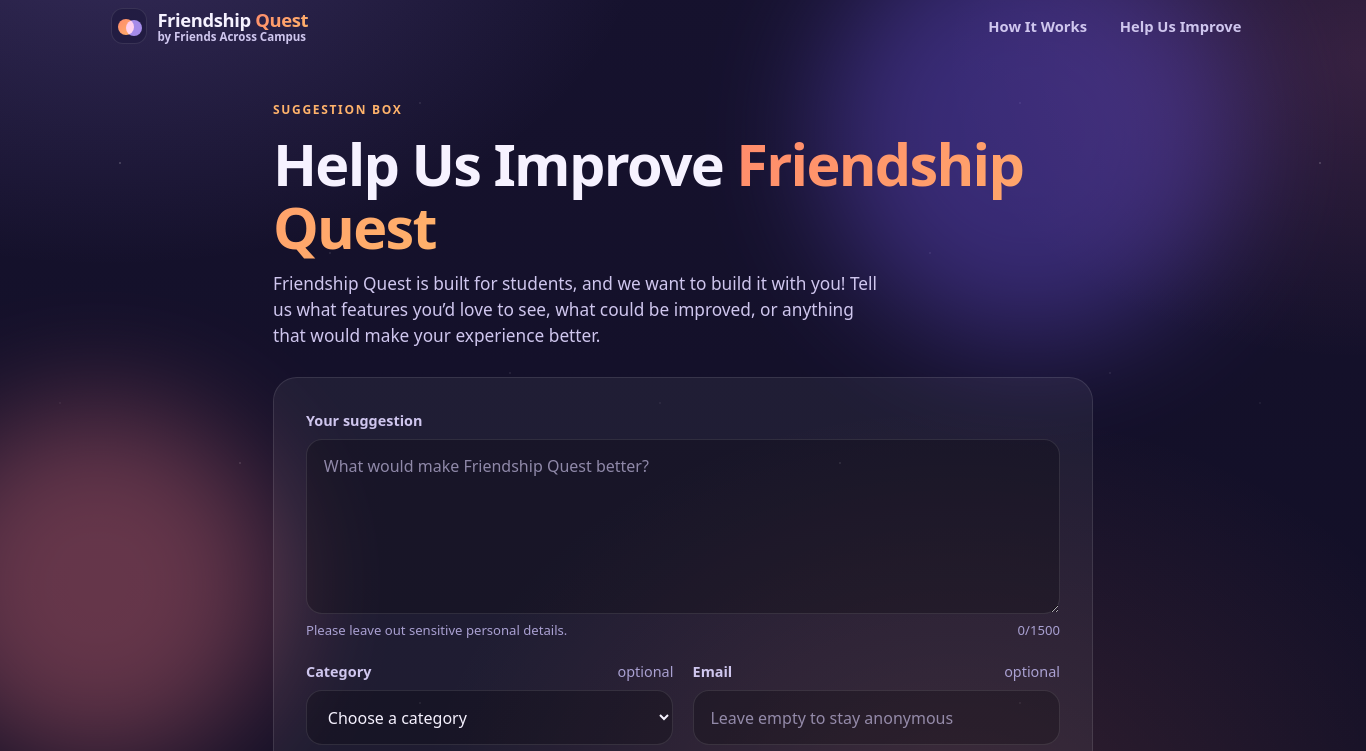
it: feedback › validates before sending
The width and height of the screenshot is (1366, 751).
Later steps or results of the test are not shown.
In the text box labelled "Your suggestion": (683, 526) [306, 439, 1060, 614], type "hi"
(page scrolled)
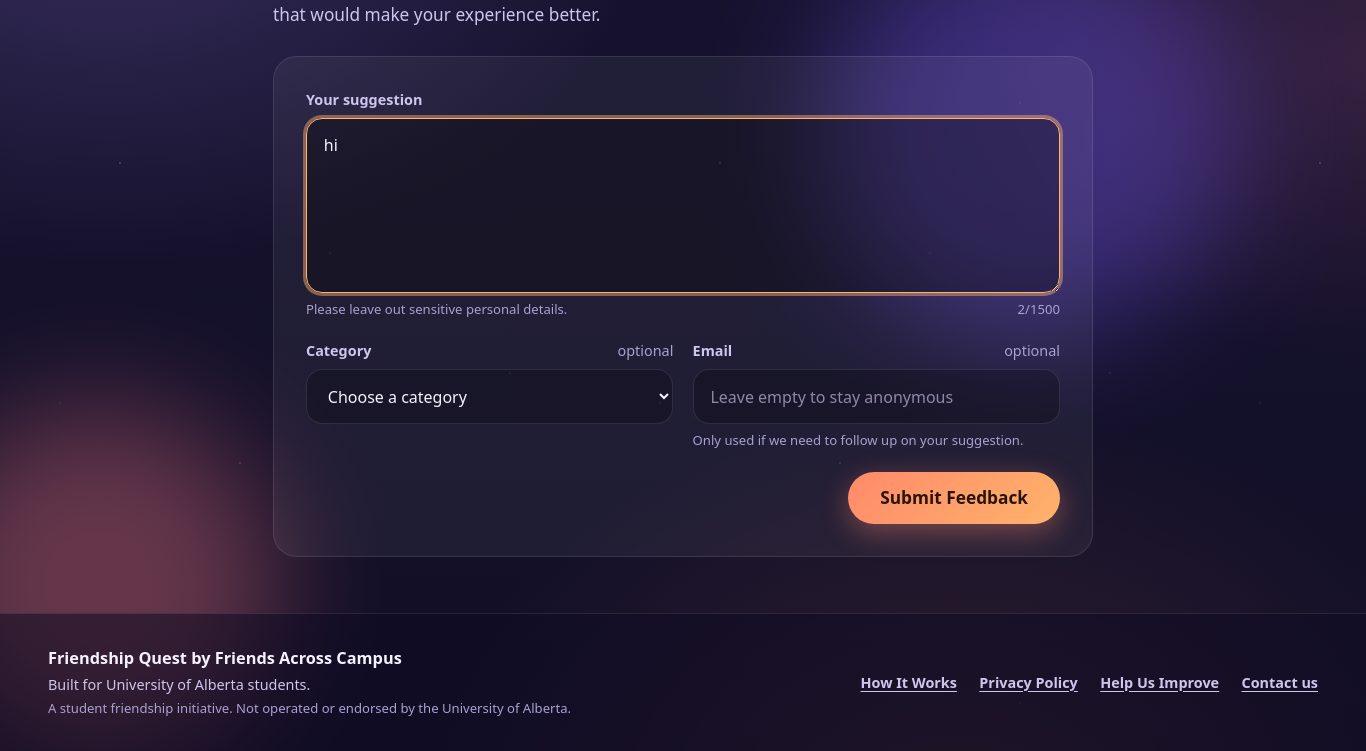
Click the button "Submit Feedback": (954, 498) [848, 472, 1060, 524]
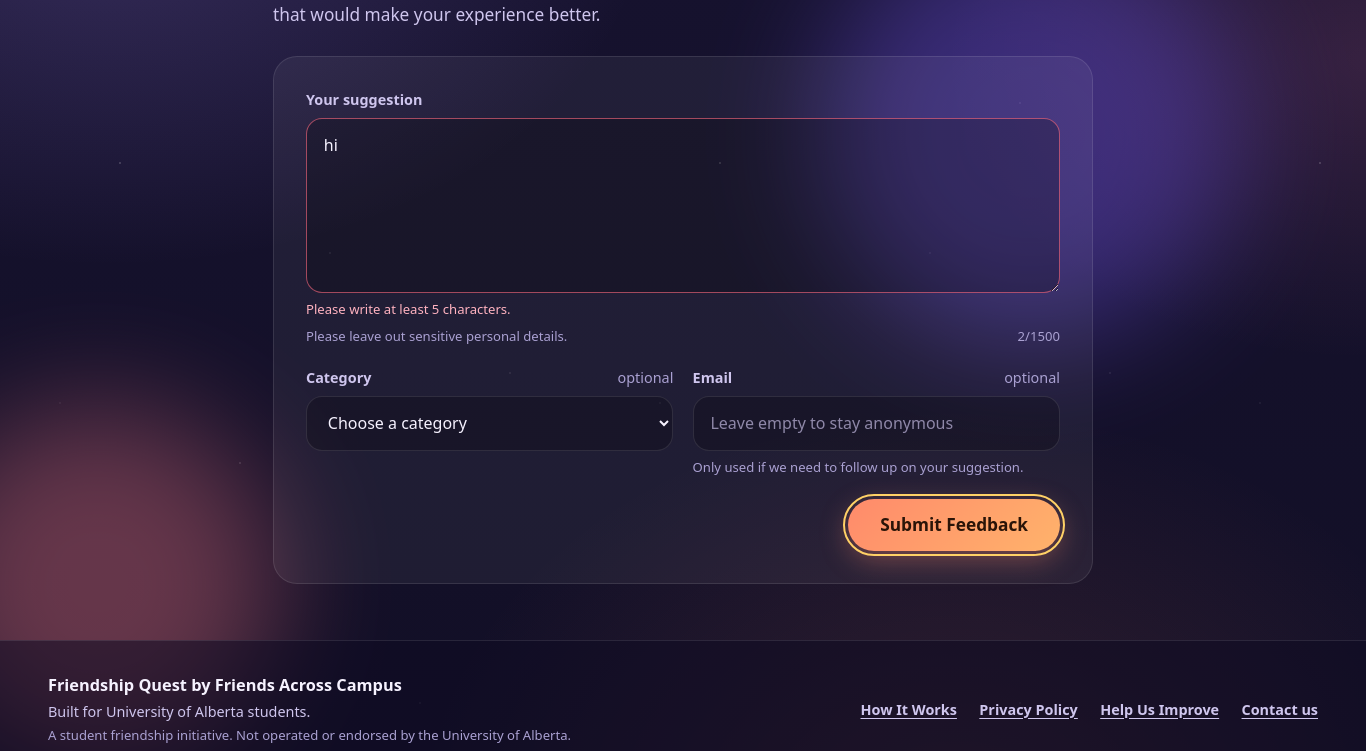
Now the text "Please write at least 5 characters." is shown, box [306, 300, 511, 318]
